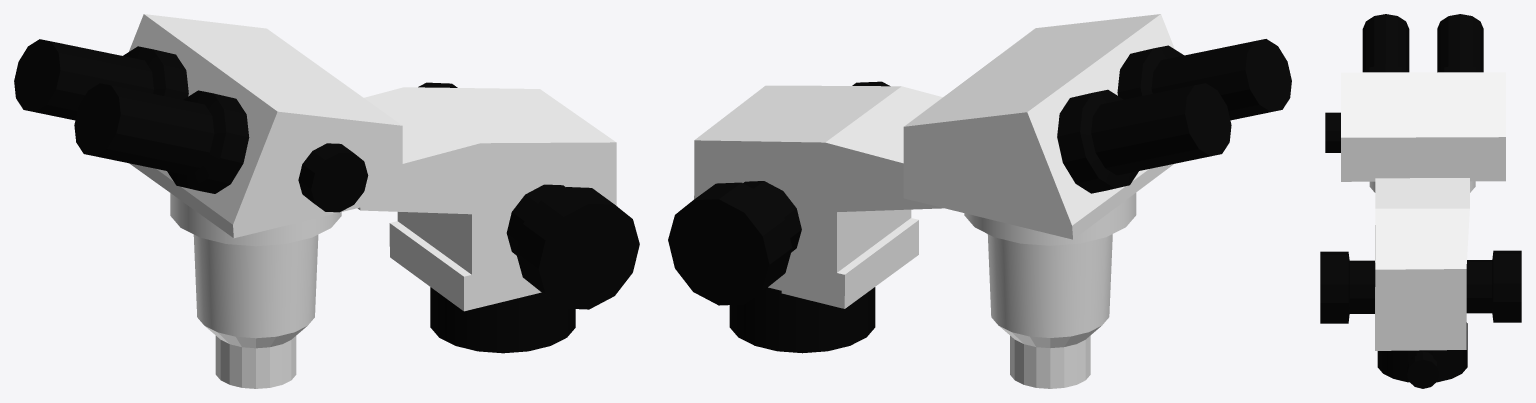
File: Microscopio_Superior.FBX
The picture shows the model from 3 angles, left to right: view 1: azimuth 30°, elevation 25°; view 2: azimuth 150°, elevation 25°; view 3: azimuth 270°, elevation 25°; orthographic projection. The views are drawn at different scales.
Parts seen in each view (by area): view 1: Microscopio_Superior; view 2: Microscopio_Superior; view 3: Microscopio_Superior.
Boxes of the visible parts, x1,y1,x2,y2 form: Microscopio_Superior: [14, 14, 639, 388]; Microscopio_Superior: [668, 14, 1291, 388]; Microscopio_Superior: [1320, 14, 1521, 388].
Bounding box in the file's own units: 27.08 × 16.94 × 13.84.
1 material, 1 textured.
